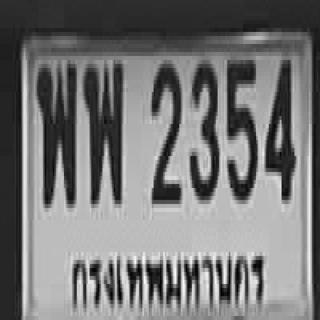A30: (37, 60, 75, 204), (83, 60, 122, 200)
N02: (150, 60, 181, 200)
N03: (189, 60, 218, 196)
N04: (264, 56, 293, 200)
N05: (226, 56, 256, 200)
P04: (64, 242, 268, 320)
